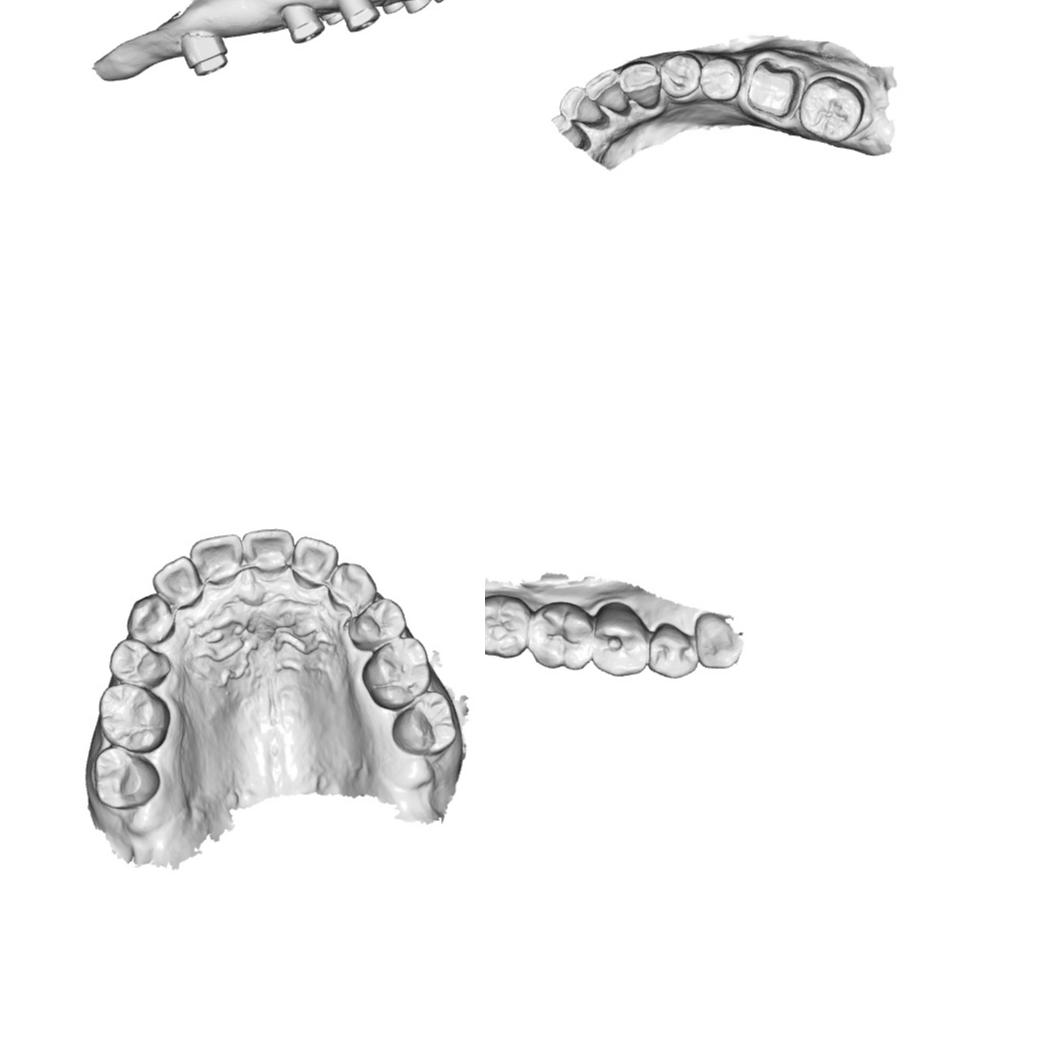canine: (326, 560, 378, 616), (124, 592, 176, 647), (695, 612, 743, 670), (618, 58, 663, 111)
crown: (744, 56, 804, 122)
implant: (179, 28, 229, 78), (279, 1, 326, 45), (333, 0, 380, 34), (404, 0, 435, 15), (382, 0, 406, 14)
incisor: (150, 553, 202, 609), (188, 532, 242, 584), (290, 534, 338, 592), (240, 527, 294, 578), (583, 68, 629, 114), (558, 84, 606, 126)
molar: (359, 636, 432, 712), (98, 684, 170, 754), (796, 74, 866, 145), (390, 690, 459, 757), (528, 600, 594, 670), (88, 745, 158, 810), (485, 593, 531, 658)
premolar: (592, 600, 650, 678), (347, 596, 408, 649), (648, 622, 697, 678), (107, 637, 165, 684), (699, 54, 743, 103), (660, 50, 702, 100)
